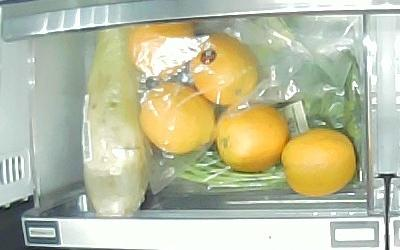orange: (215, 102, 289, 172), (282, 128, 356, 196)
orange_vinyl: (139, 83, 216, 154), (191, 33, 259, 105)
